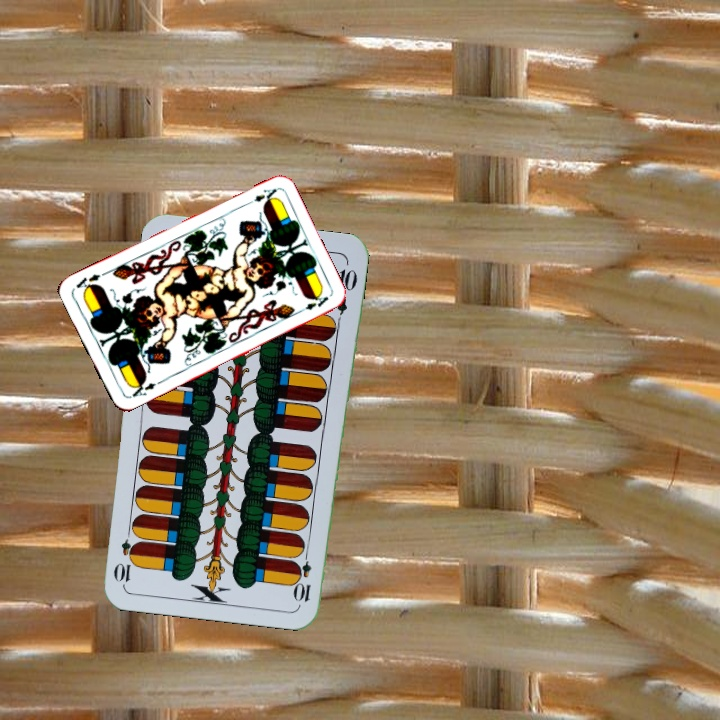E10: (293, 545, 314, 604)
EA: (241, 184, 280, 208), (125, 376, 158, 401)
